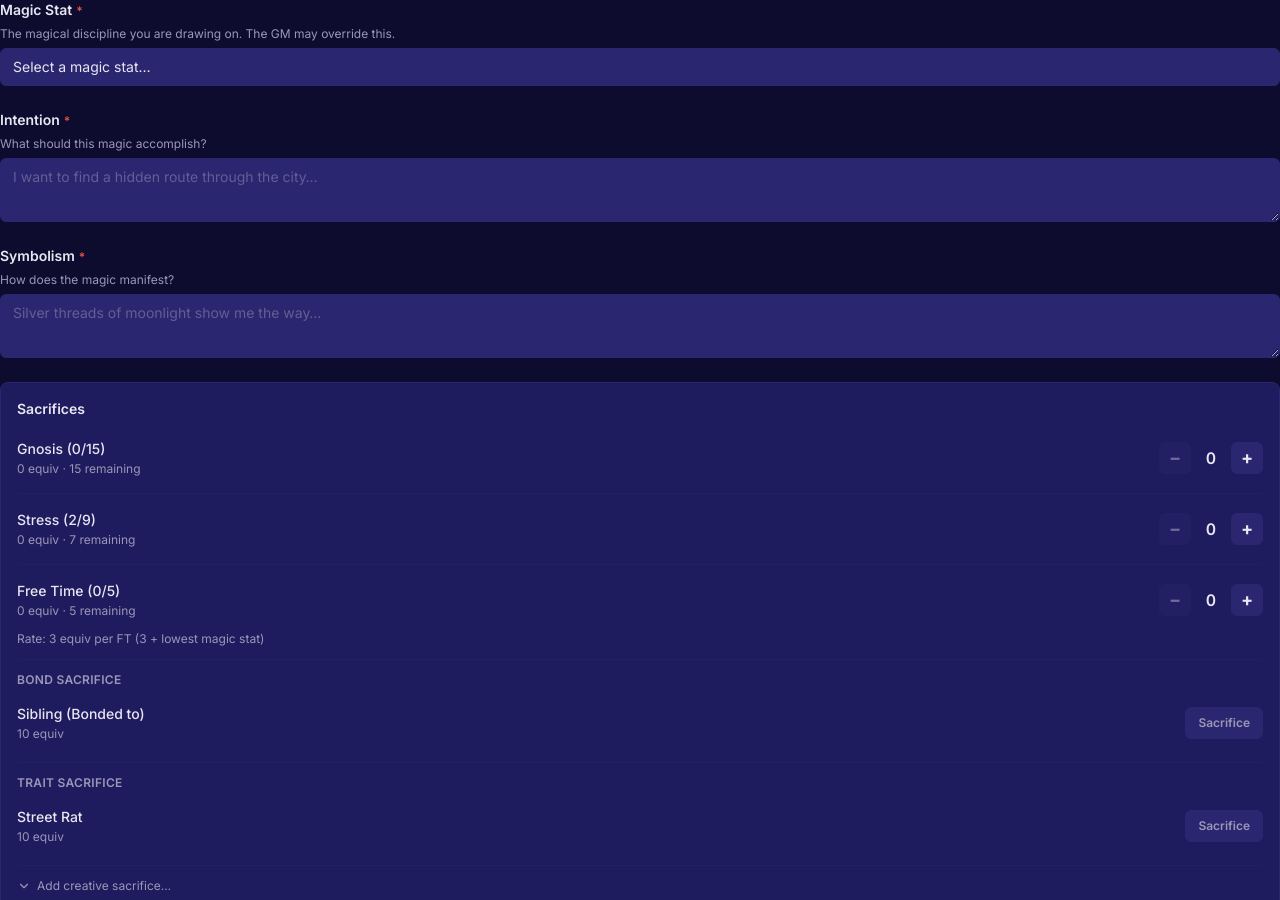
it: UseMagicForm › dice pool preview › includes stat level in total when a magic stat is selected
Select "dreaming" which has level 3 in the fixture
Select "Dreaming (Level 3)" in the dropdown labelled "Magic Stat*". click: (640, 67)
box: top-left (0, 48), bottom-right (1279, 86)
(page scrolled)
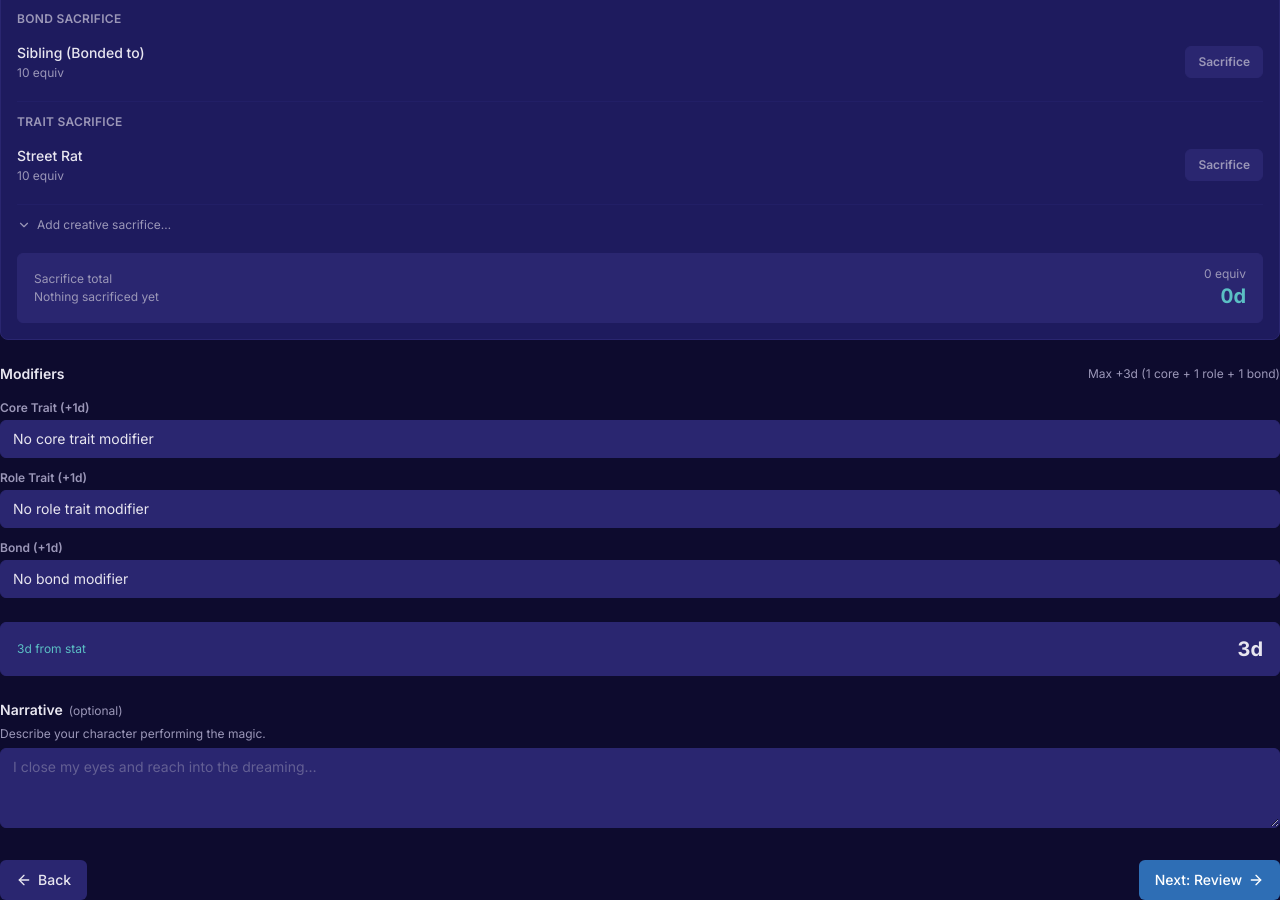
Now the element named "Dice pool preview" shows "3d", box top-left (0, 622), bottom-right (1279, 676)
Now the element named "Dice pool preview" shows "3d from stat", box top-left (0, 622), bottom-right (1279, 676)
